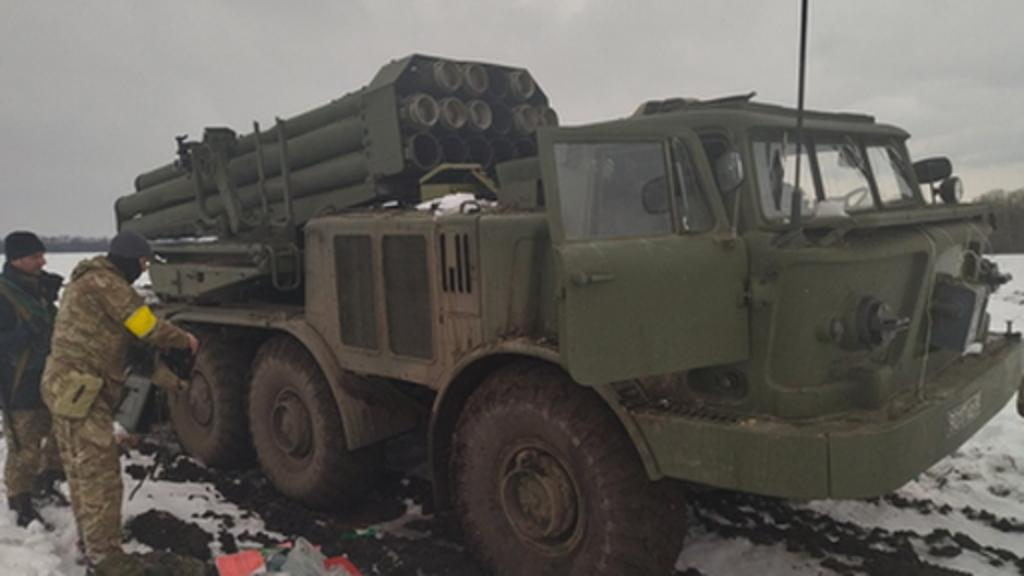MLRS: (104, 38, 1016, 570)
